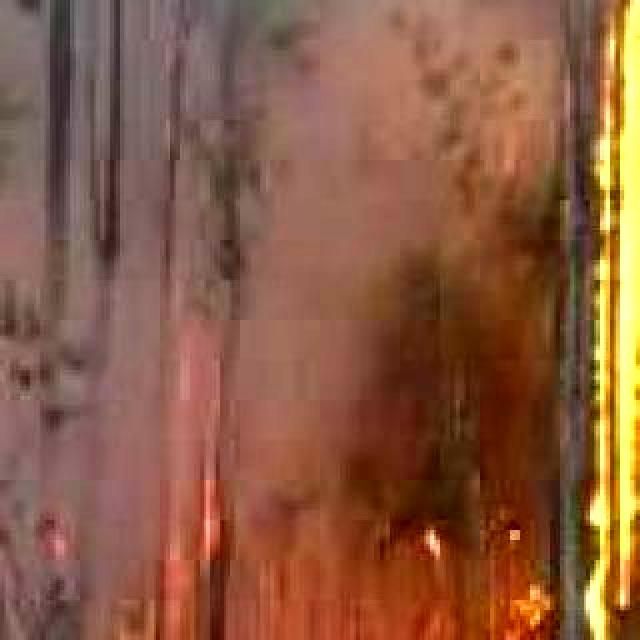fire: (598, 0, 640, 640)
